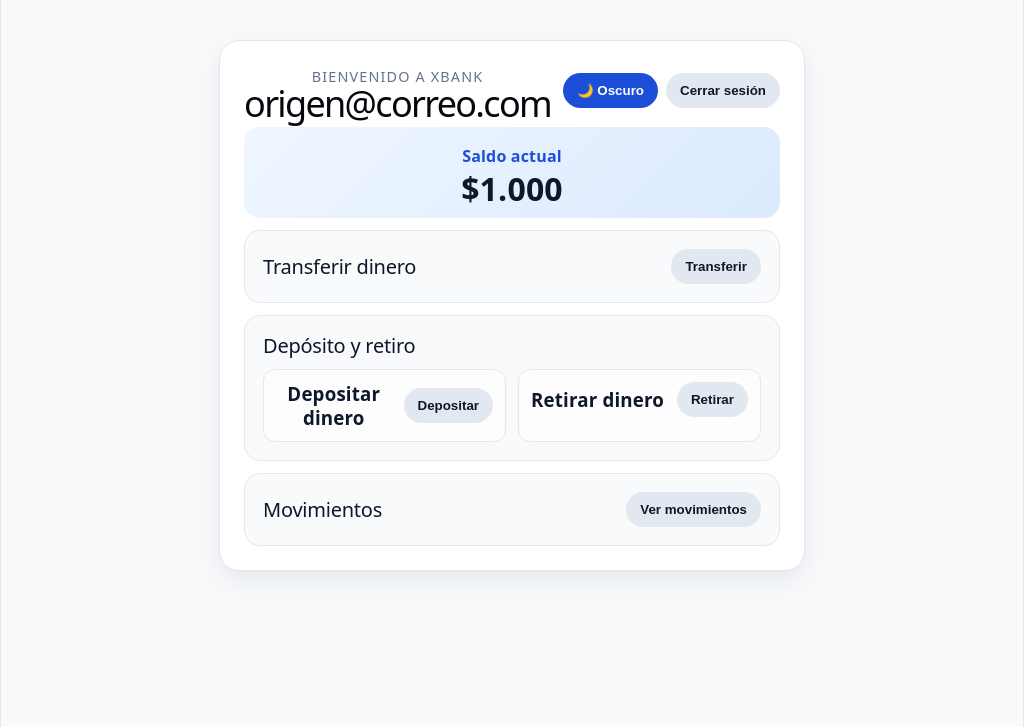
Test: Formulario de transferencia › deshabilita el botón de transferir mientras la transferencia está en curso
This screenshot has width=1024, height=727.
Click the button "Transferir": coordinates (716, 266) [672,249,761,284]
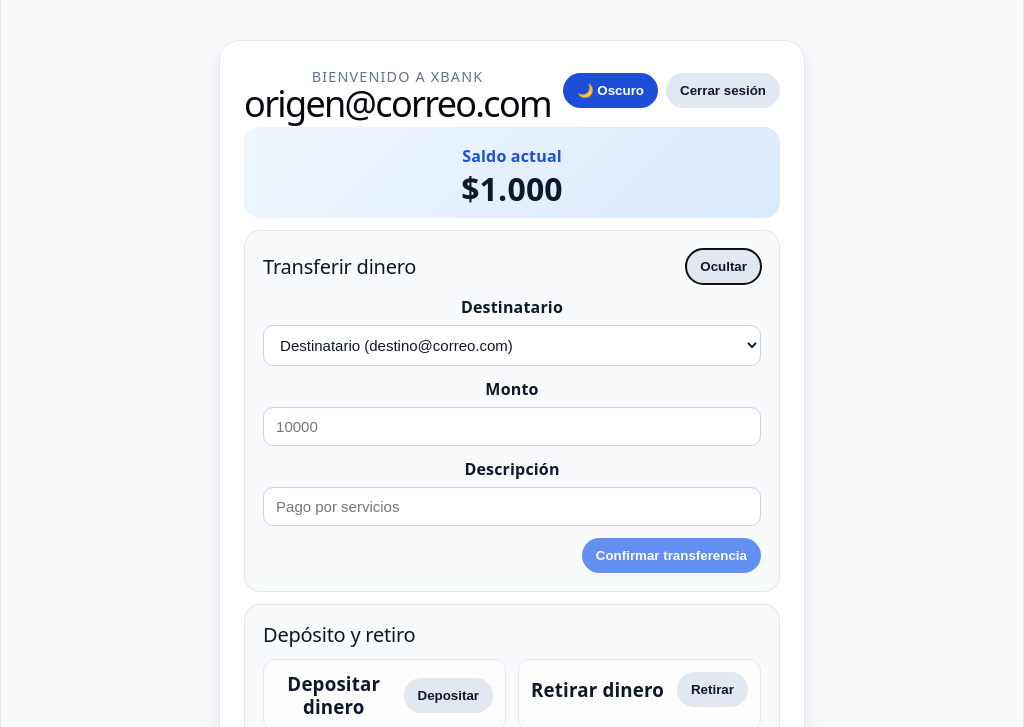
Select "Destinatario (destino@correo.com)" in the dropdown labelled "Destinatario": coordinates (512, 346) [263,325,761,366]
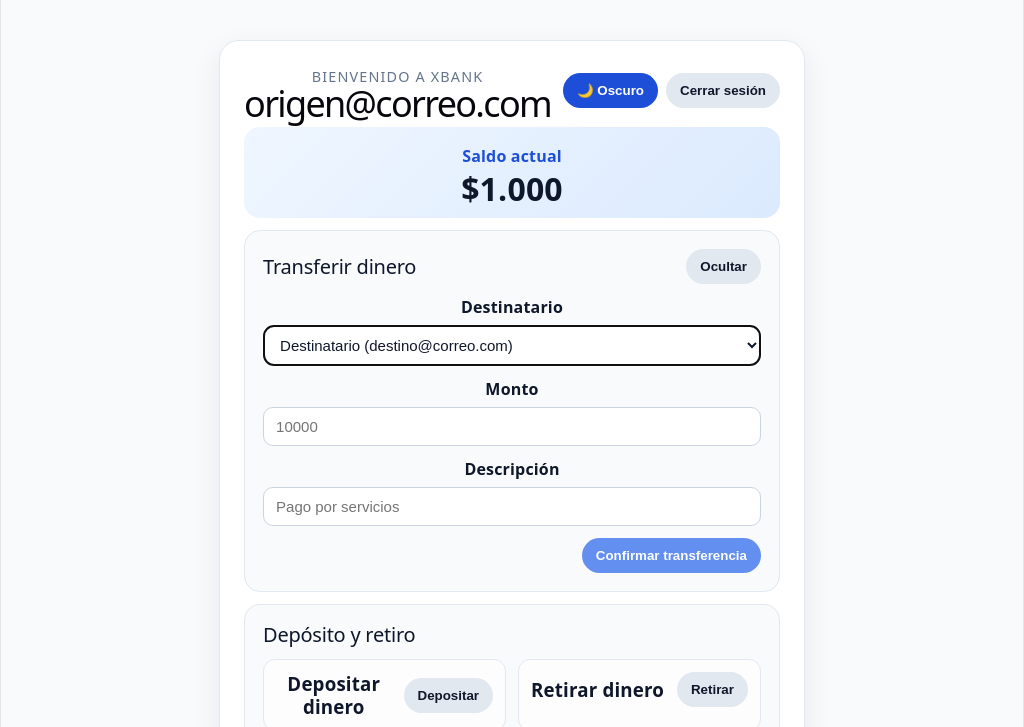
In the number field labelled "Monto": coordinates (512, 427) [263,407,761,446], type "500"
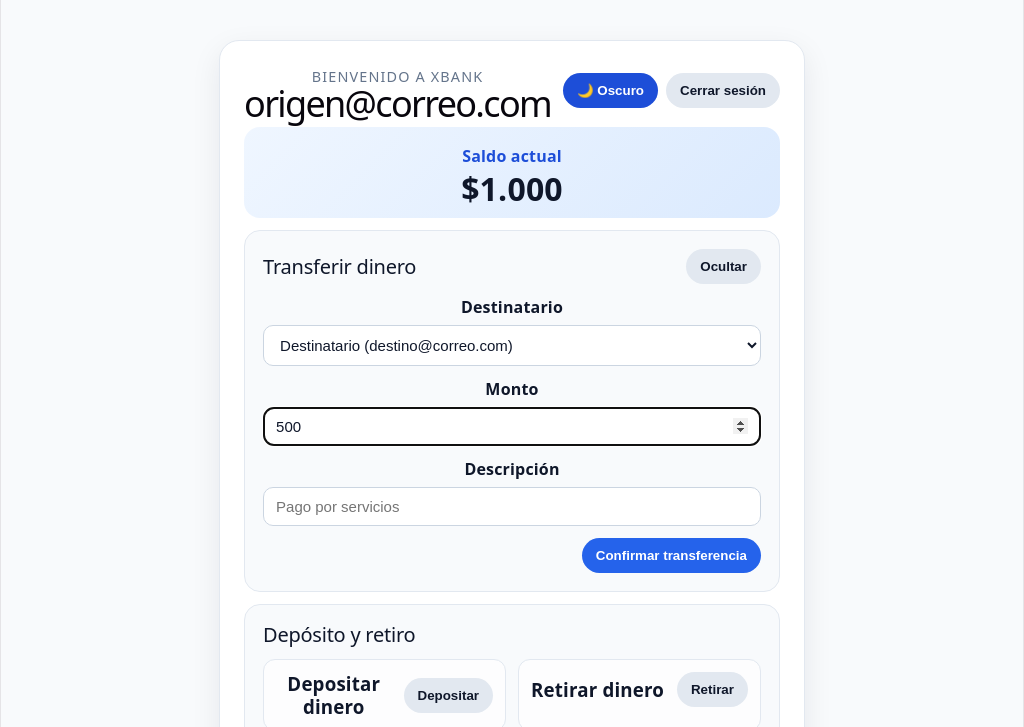
Click the button "Confirmar transferencia": coordinates (671, 556) [582,538,761,573]
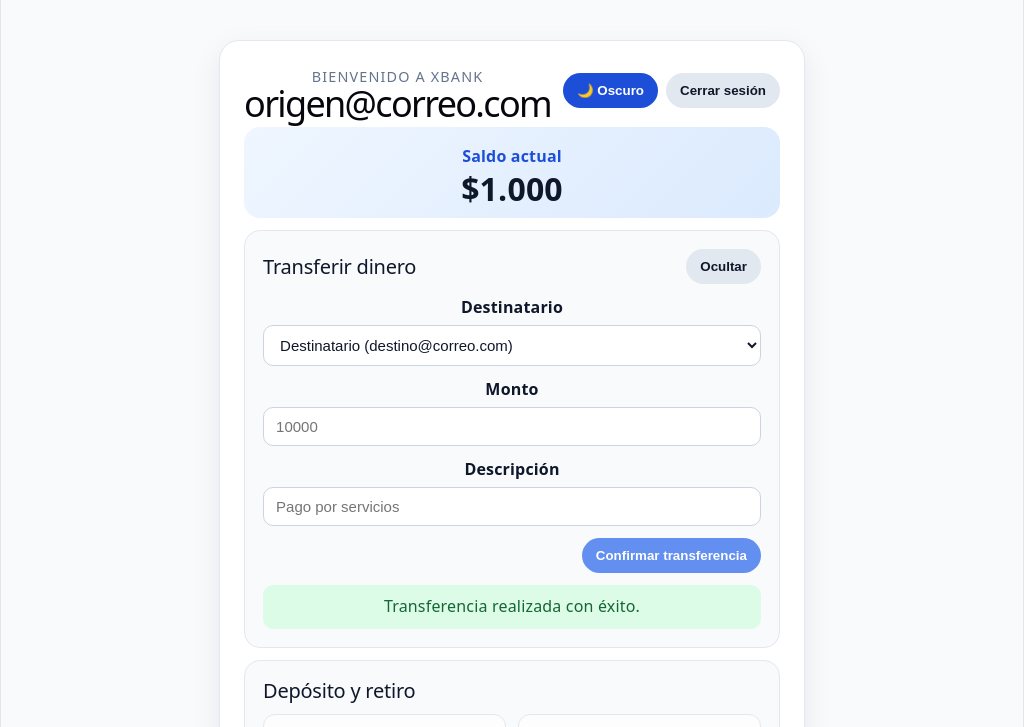
Now the button named "procesando" is disabled, box [582,538,761,573]
